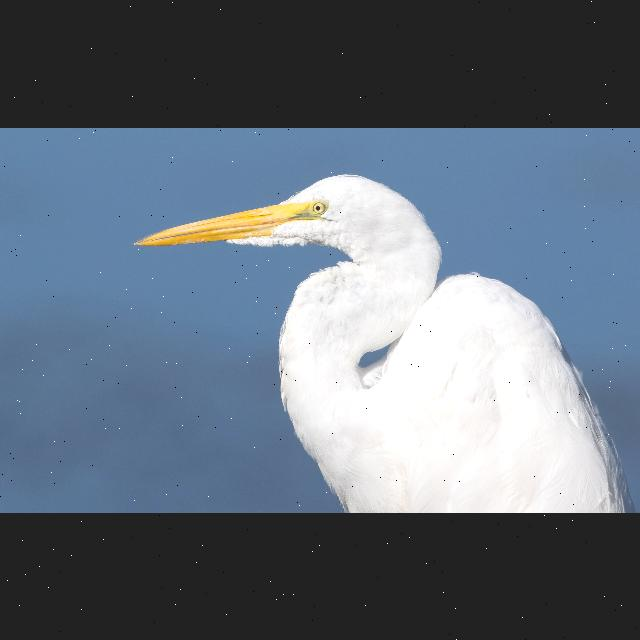egret: (120, 165, 622, 513)
